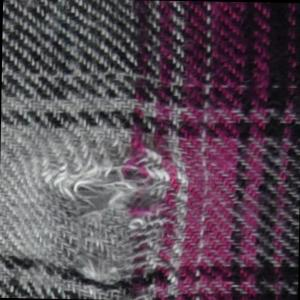Damage: (33, 126, 194, 300)
